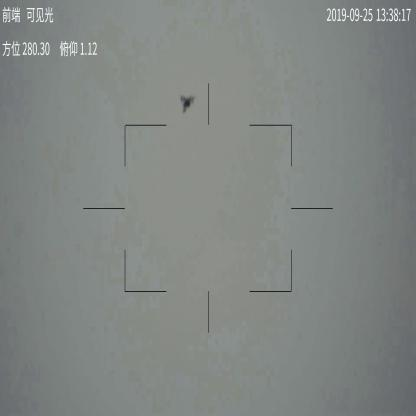uav: (180, 95, 196, 115)
